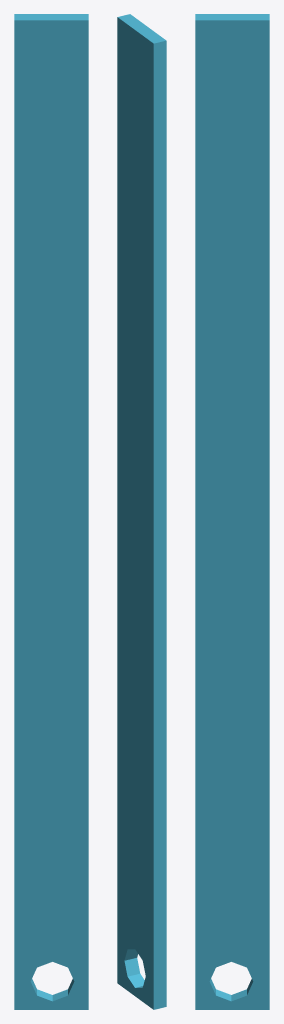
The model's file is Regla.fbx.
The picture shows the model from 3 angles, left to right: view 1: azimuth 90°, elevation 25°; view 2: azimuth 210°, elevation 25°; view 3: azimuth 270°, elevation 25°; orthographic projection. The views are drawn at different scales.
Visible parts, largest first — view 1: Regla; view 2: Regla; view 3: Regla.
Boxes of the visible parts, <box> form: Regla: <box>14,14,88,1009</box>; Regla: <box>117,14,166,1009</box>; Regla: <box>195,14,269,1009</box>.
Bounding box in the file's own units: 21.85 × 1585 × 108.
